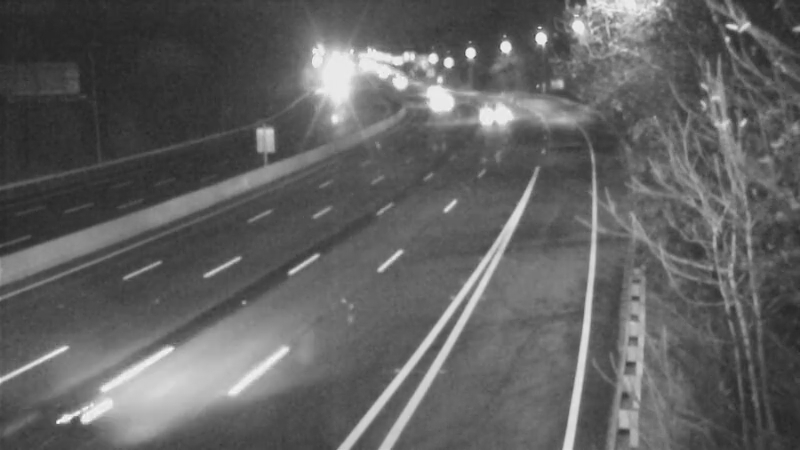vehicle: (409, 66, 459, 116), (416, 80, 466, 130), (459, 91, 509, 141)
